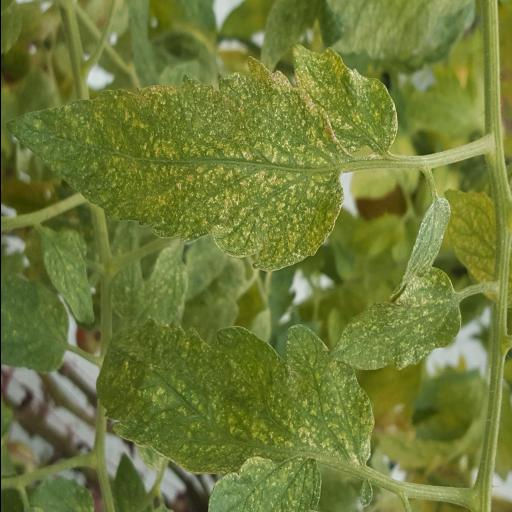Spider Mites: (20, 60, 350, 270), (110, 304, 384, 460), (338, 256, 466, 358), (300, 41, 404, 151)
